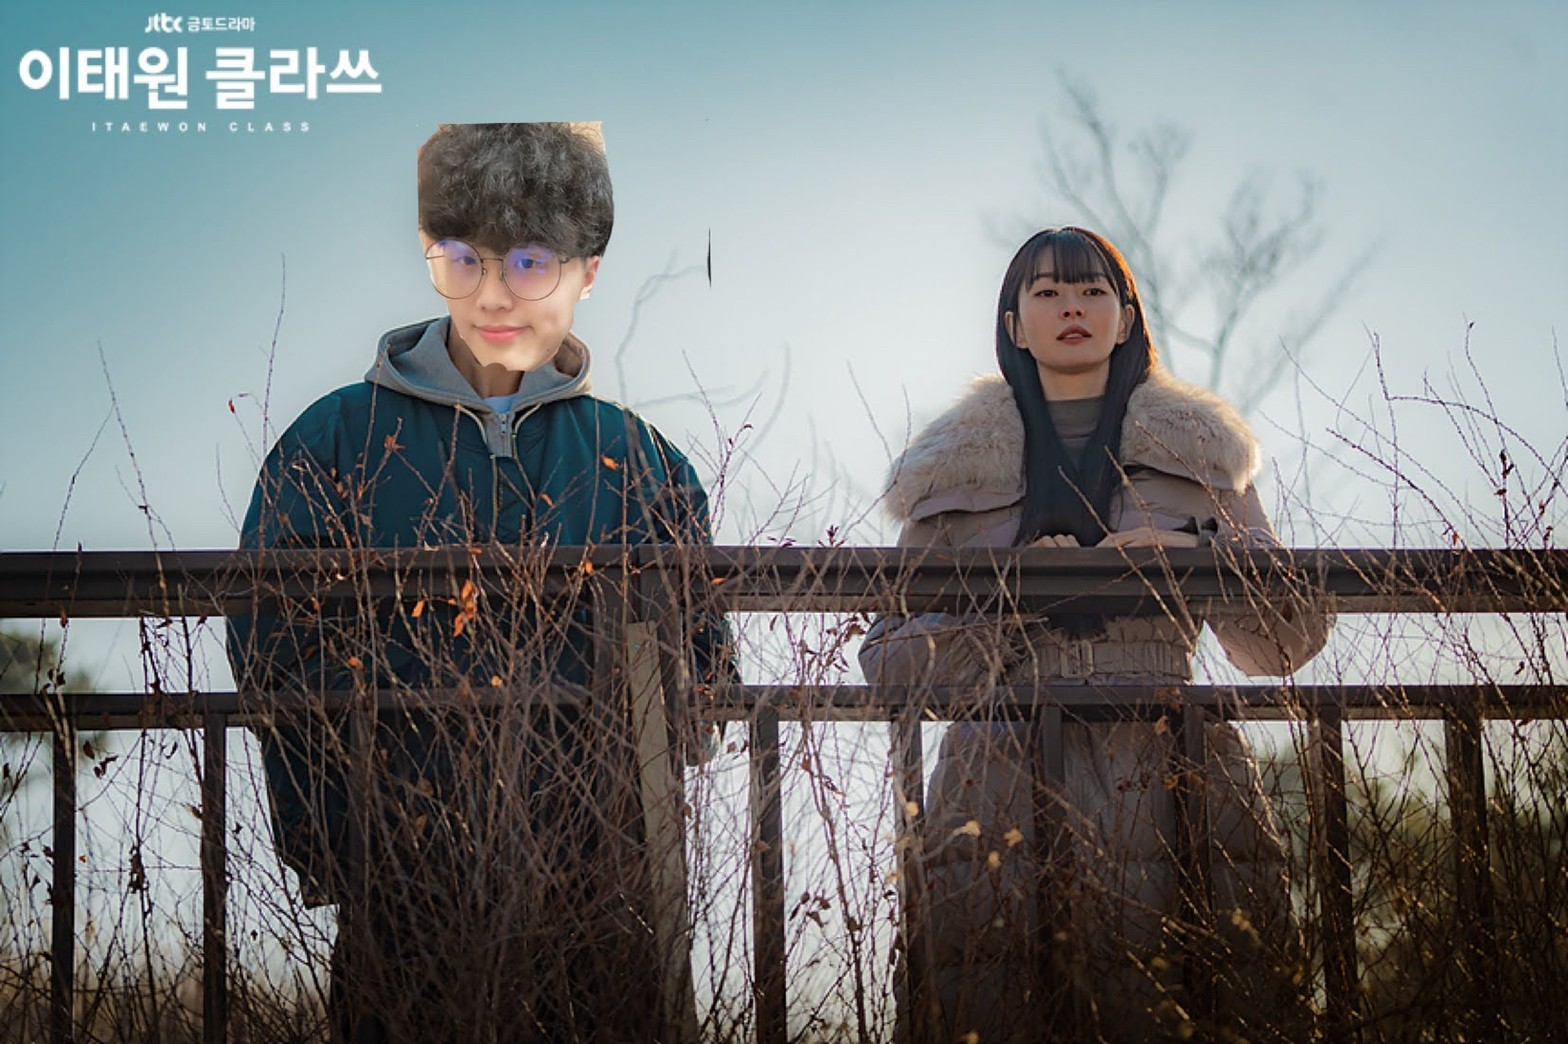people: (345, 125, 656, 1014), (938, 212, 1223, 1020)
